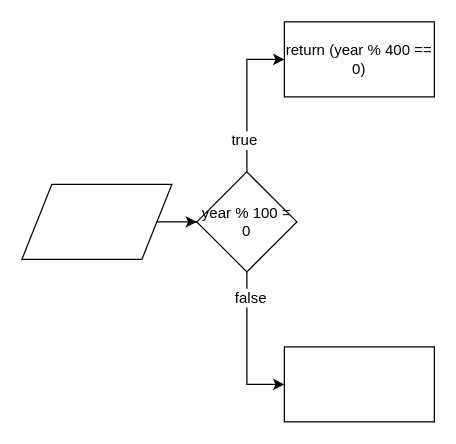
The diagram is 456 pixels wide and 444 high, and some of its shapes have lost their labels. Each missing label, with the box of its shape:
input year: (21, 183, 172, 259)
return (year % 4 == 0): (283, 346, 434, 422)
